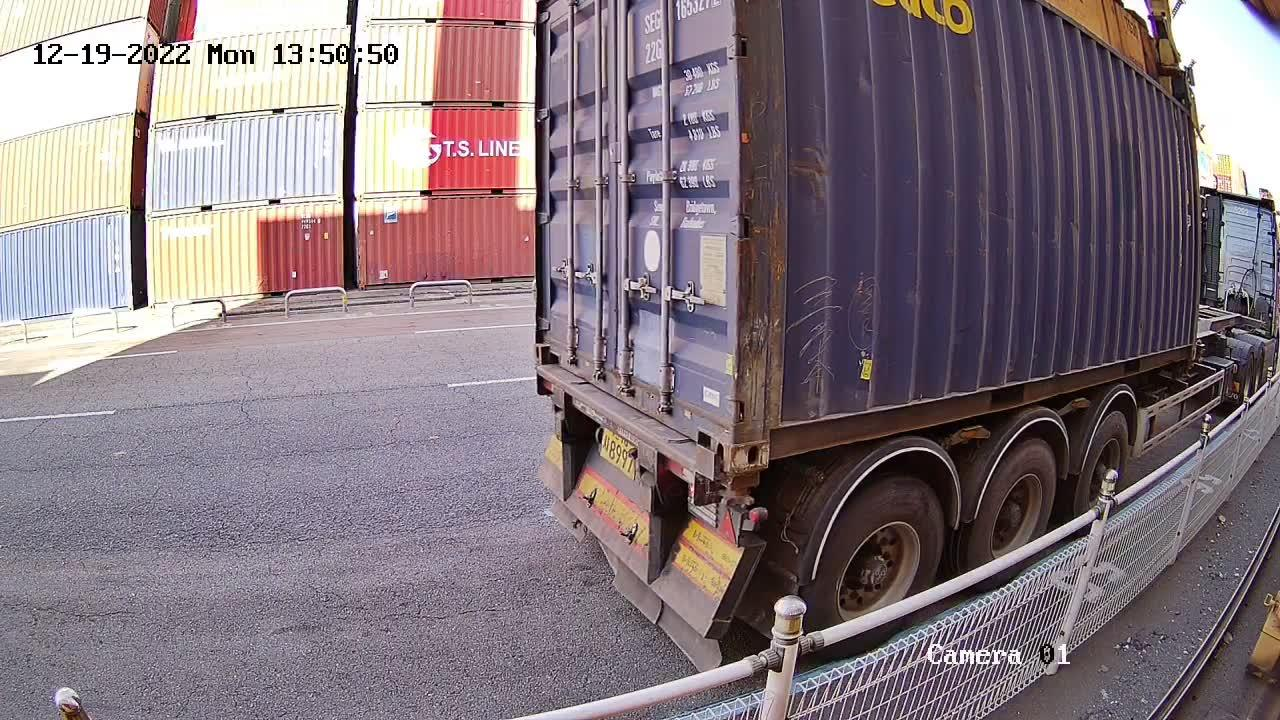Chassis: (535, 366, 720, 476)
Cone: (711, 471, 761, 509)
Hole_L: (731, 391, 796, 472), (535, 327, 565, 374)
Hole_R: (683, 390, 731, 470)
Tire: (810, 480, 944, 627), (974, 444, 1057, 565), (1080, 414, 1128, 510)
